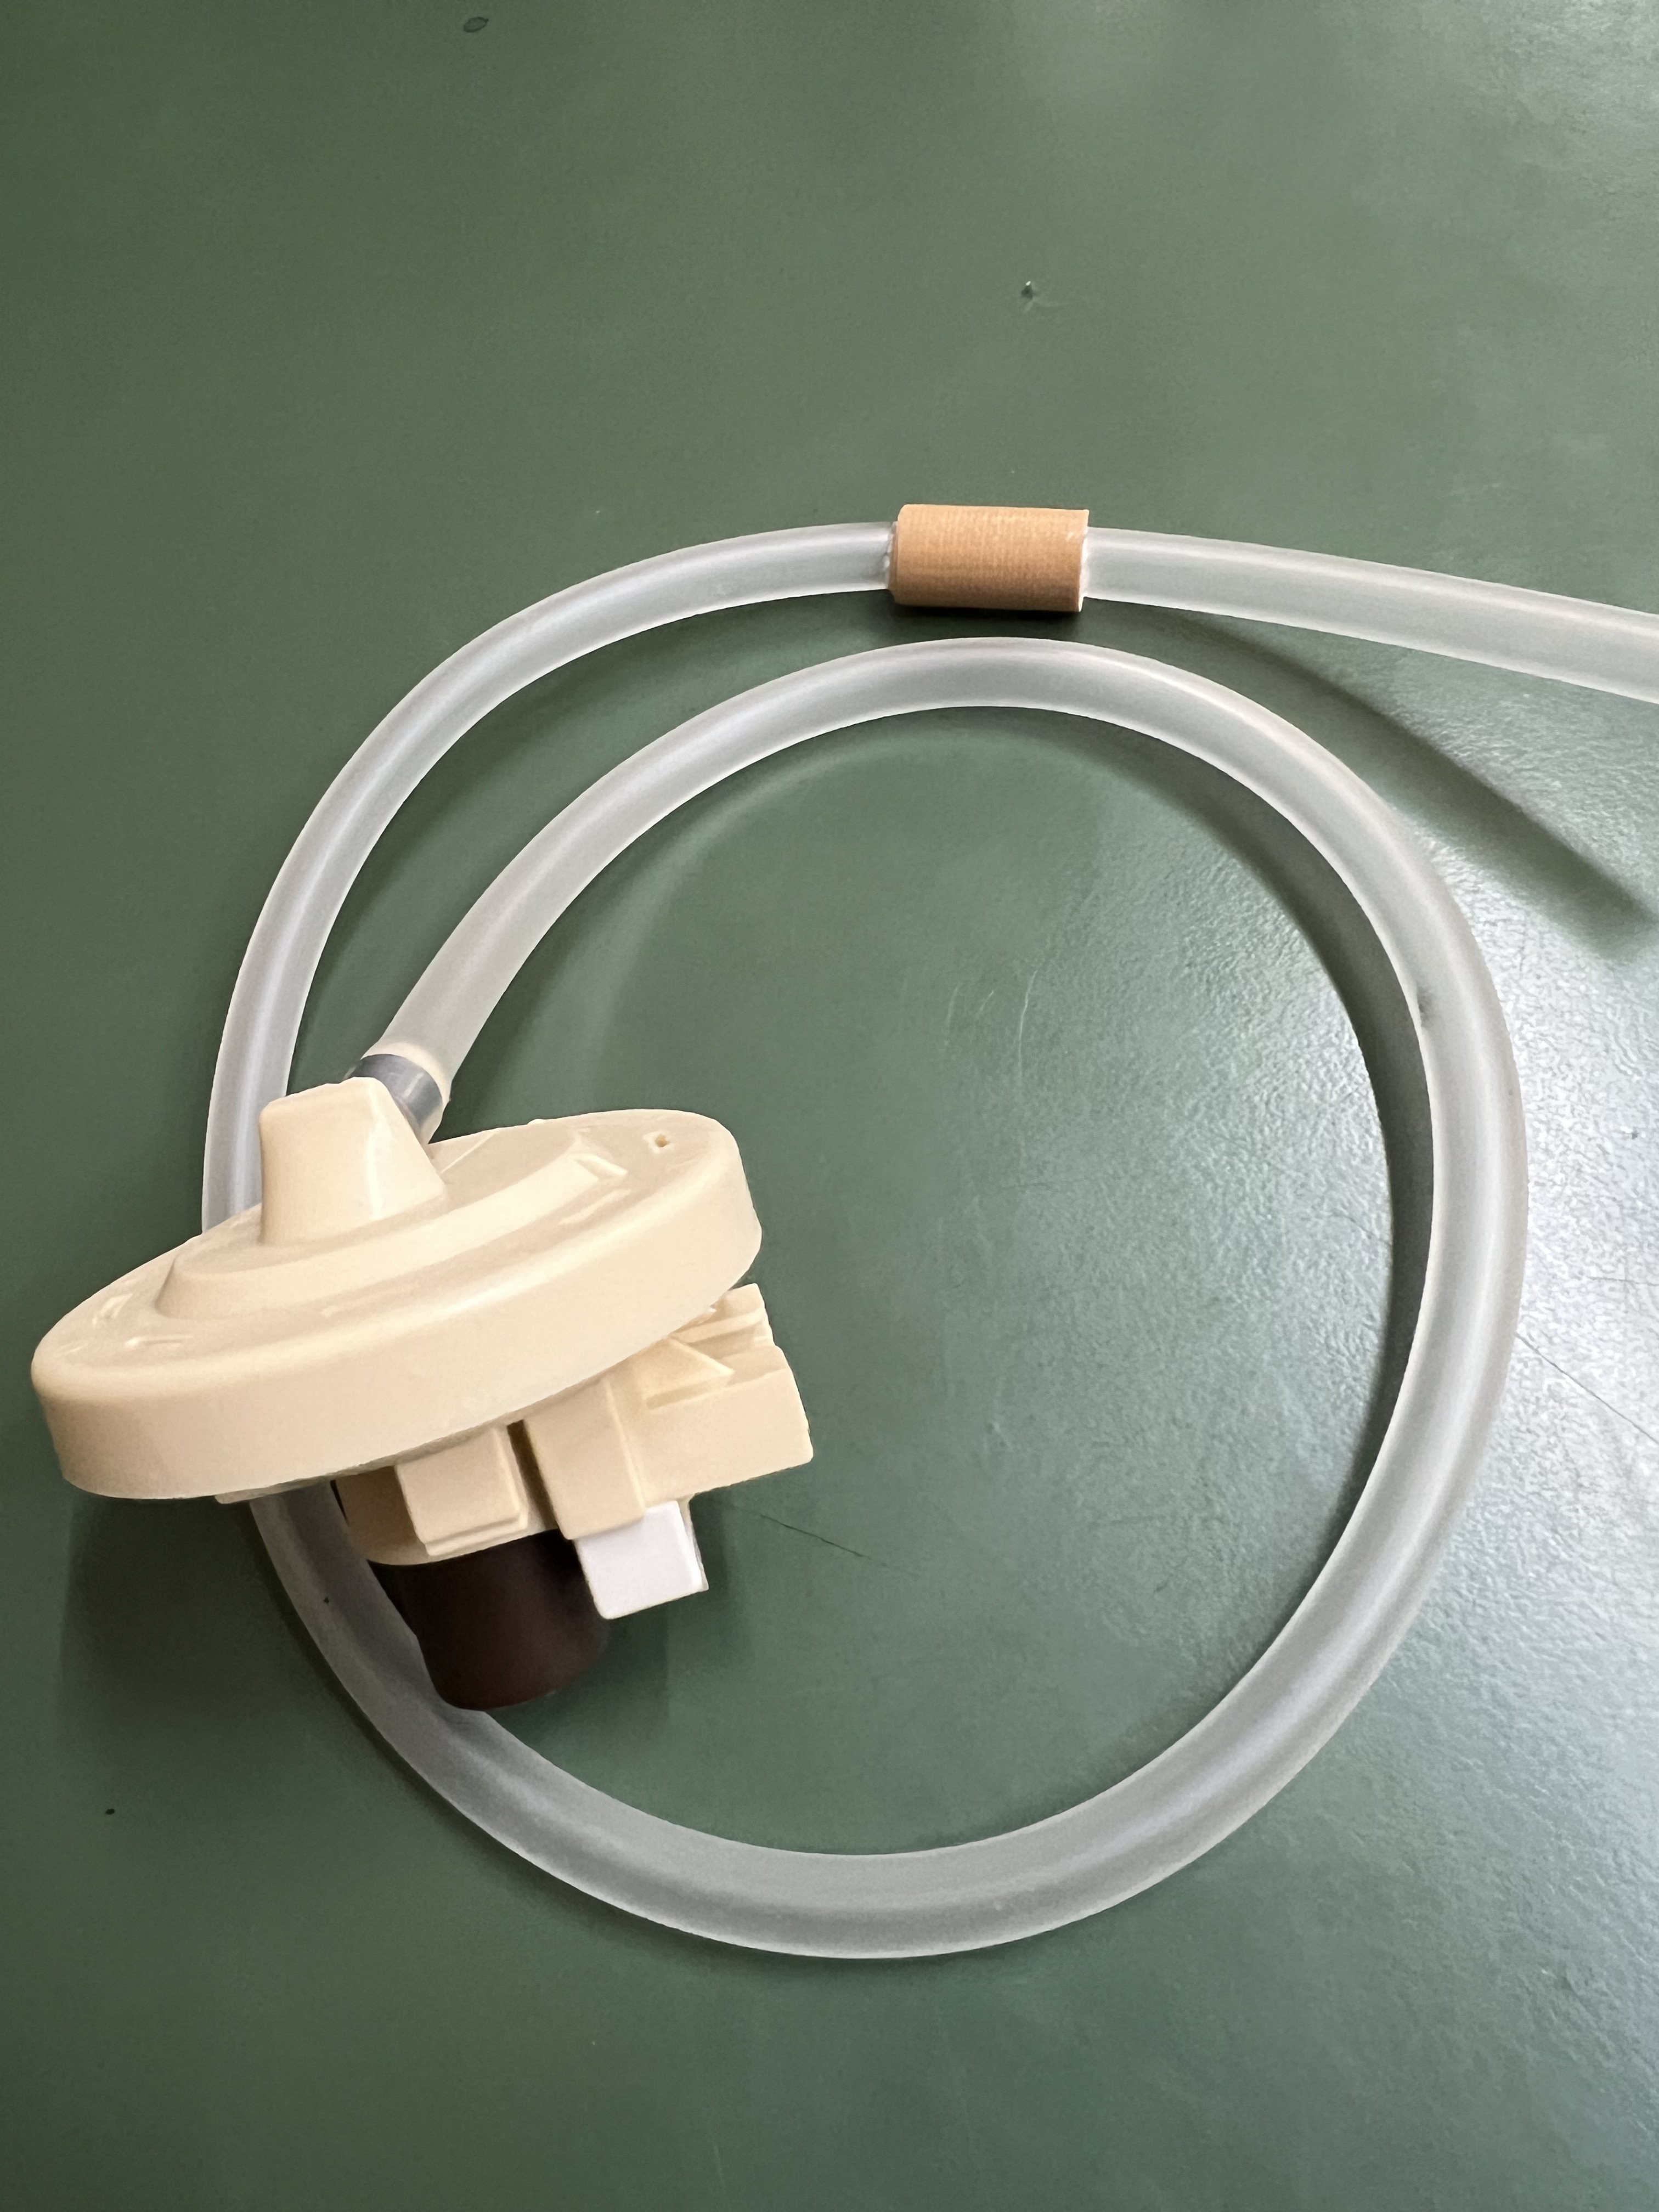pressure_sensor: (24, 489, 1659, 1958)
